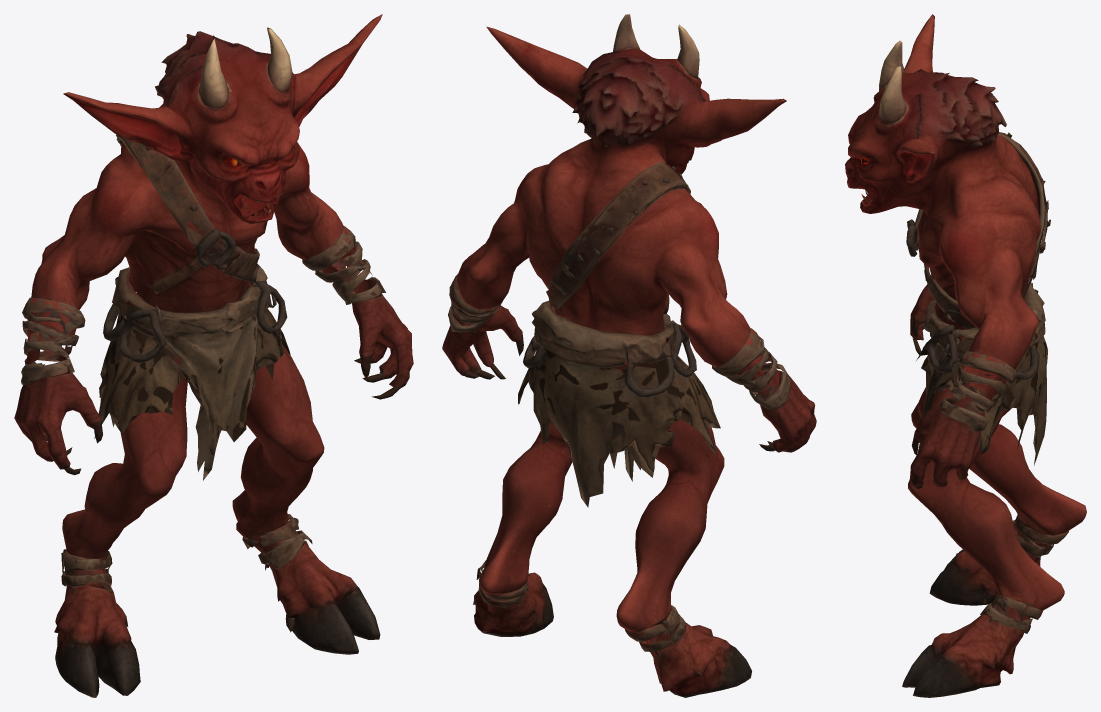
The model's file is game.glb.
3 renders of one model, left to right at view 1: azimuth 30°, elevation 25°; view 2: azimuth 150°, elevation 25°; view 3: azimuth 270°, elevation 25°, orthographic. The views are drawn at different scales.
Visible parts, largest first — view 1: geometry_0; view 2: geometry_0; view 3: geometry_0.
Part boxes in pixels (x1,y1,x2,y2): geometry_0: [14, 14, 413, 697]; geometry_0: [442, 14, 816, 697]; geometry_0: [845, 14, 1086, 697].
Size of the model in its own units: 0.6109 by 0.9975 by 0.3743.
1 material, 1 textured.
